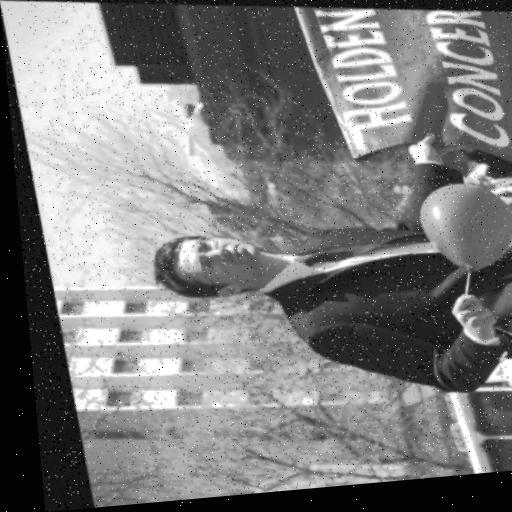balloon: (408, 165, 512, 267)
